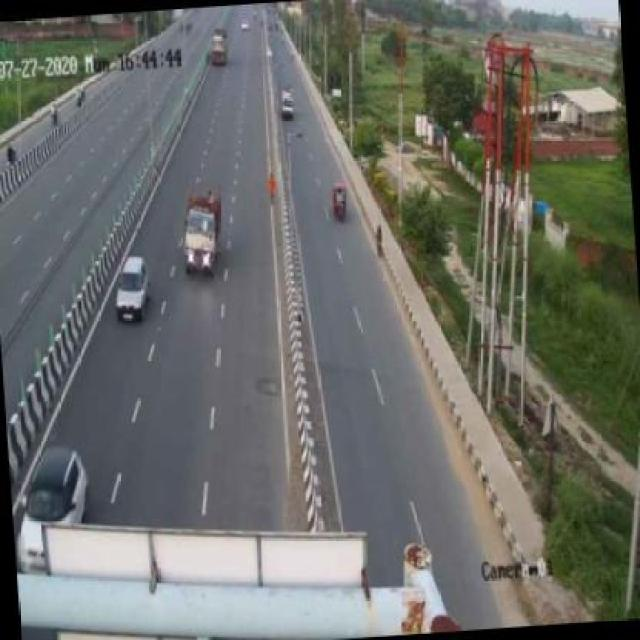car: (15, 443, 99, 555), (114, 260, 155, 325)
